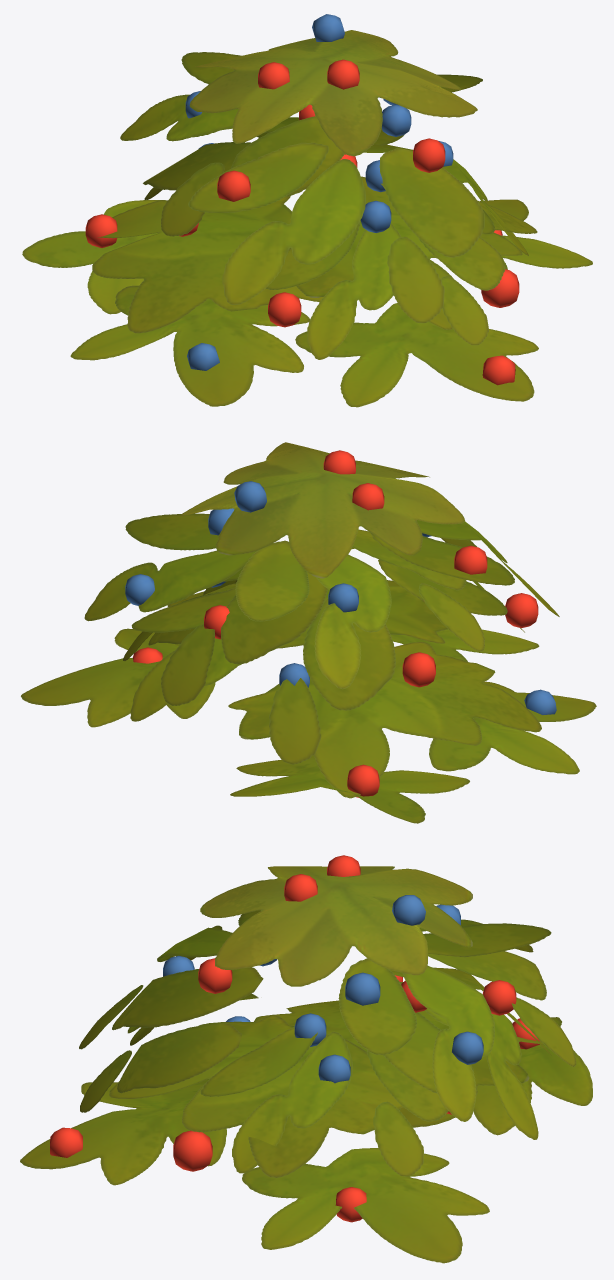
Rendered from SM_BerryBushes.fbx.
3 renders of one model, top to bottom at view 1: azimuth 30°, elevation 25°; view 2: azimuth 150°, elevation 25°; view 3: azimuth 270°, elevation 25°, orthographic. The views are drawn at different scales.
Parts seen in each view (by area): view 1: SM_BerryBushes; view 2: SM_BerryBushes; view 3: SM_BerryBushes.
Boxes of the visible parts, box(x1,y1,x2,y2) form: SM_BerryBushes: box(22, 14, 592, 407); SM_BerryBushes: box(21, 442, 596, 823); SM_BerryBushes: box(20, 855, 592, 1263).
Bounding box in the file's own units: 1.13 × 0.5349 × 1.08.
